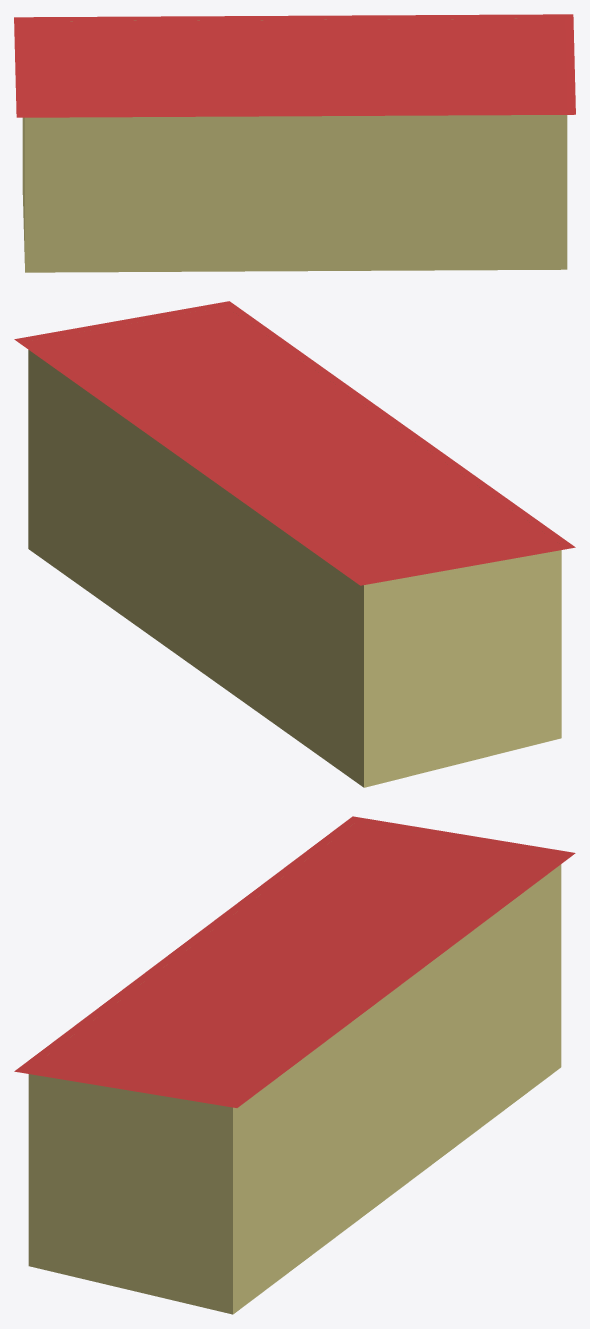
The picture shows the model from 3 angles, top to bottom: view 1: azimuth 30°, elevation 25°; view 2: azimuth 150°, elevation 25°; view 3: azimuth 270°, elevation 25°; orthographic projection. The views are drawn at different scales.
Bounding box in the file's own units: 17.02 × 13.12 × 5.47.
